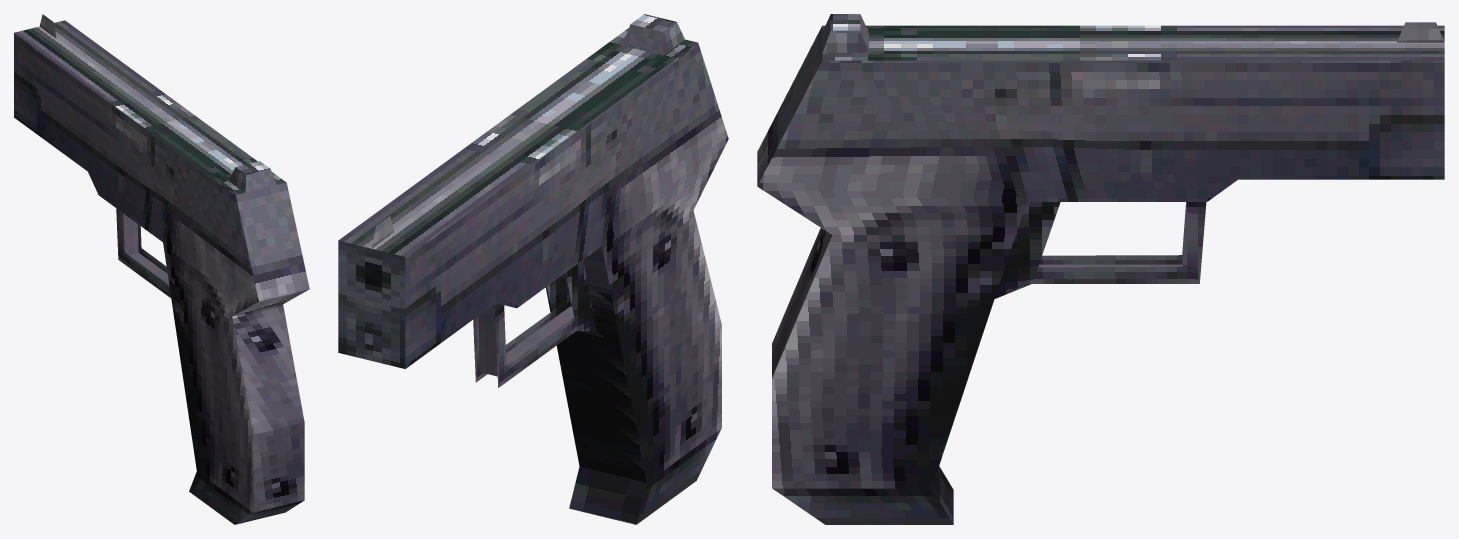
Rendered from recovered_gun_sig226.glb.
The picture shows the model from 3 angles, left to right: view 1: azimuth 30°, elevation 25°; view 2: azimuth 150°, elevation 25°; view 3: azimuth 270°, elevation 25°; orthographic projection. The views are drawn at different scales.
Parts seen in each view (by area): view 1: Gun_929cf380a00f; view 2: Gun_929cf380a00f; view 3: Gun_929cf380a00f.
Part boxes in pixels (x1,y1,x2,y2): Gun_929cf380a00f: [14, 14, 309, 524]; Gun_929cf380a00f: [338, 14, 728, 524]; Gun_929cf380a00f: [757, 14, 1444, 524].
Bounding box in the file's own units: 0.0285 × 0.185 × 0.2375.
Materials: 1 (1 with a texture image).
